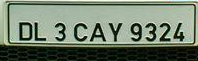2: (158, 22, 172, 42)
3: (143, 22, 158, 42), (53, 22, 66, 42)
4: (172, 22, 186, 42)
9: (129, 22, 144, 42)
A: (89, 22, 107, 42)
C: (73, 22, 89, 42)
D: (18, 22, 33, 41)
L: (33, 22, 46, 41)
Y: (107, 22, 123, 43)
